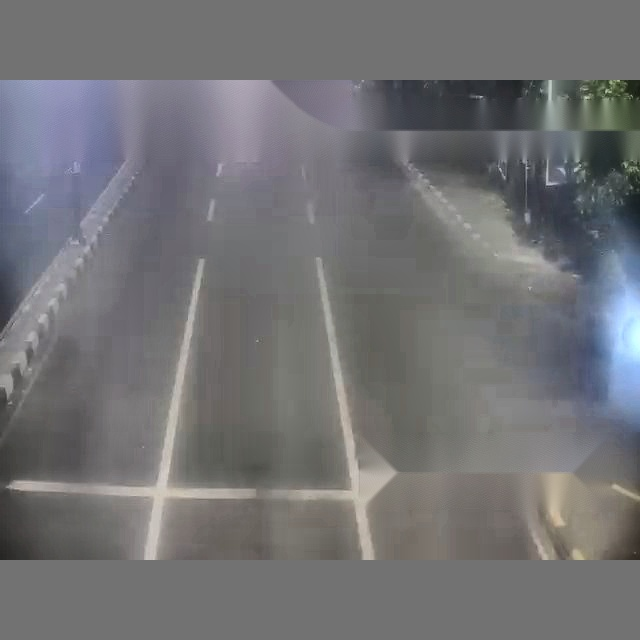Bis: (595, 244, 639, 420)
